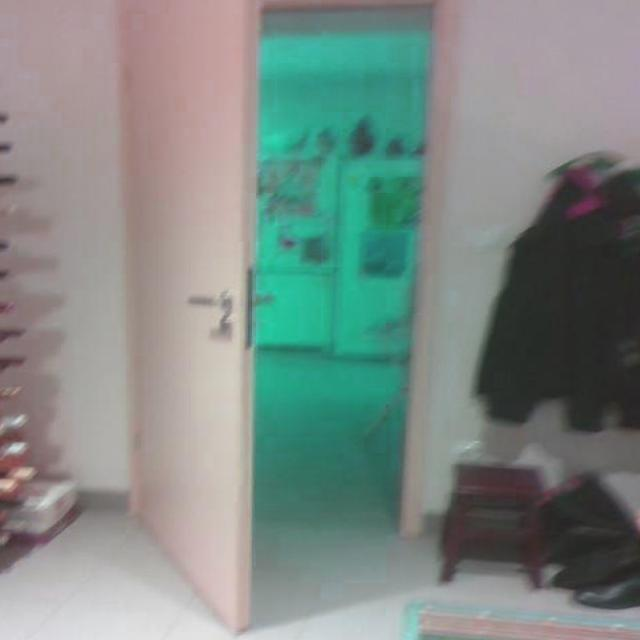door: (114, 0, 272, 640)
